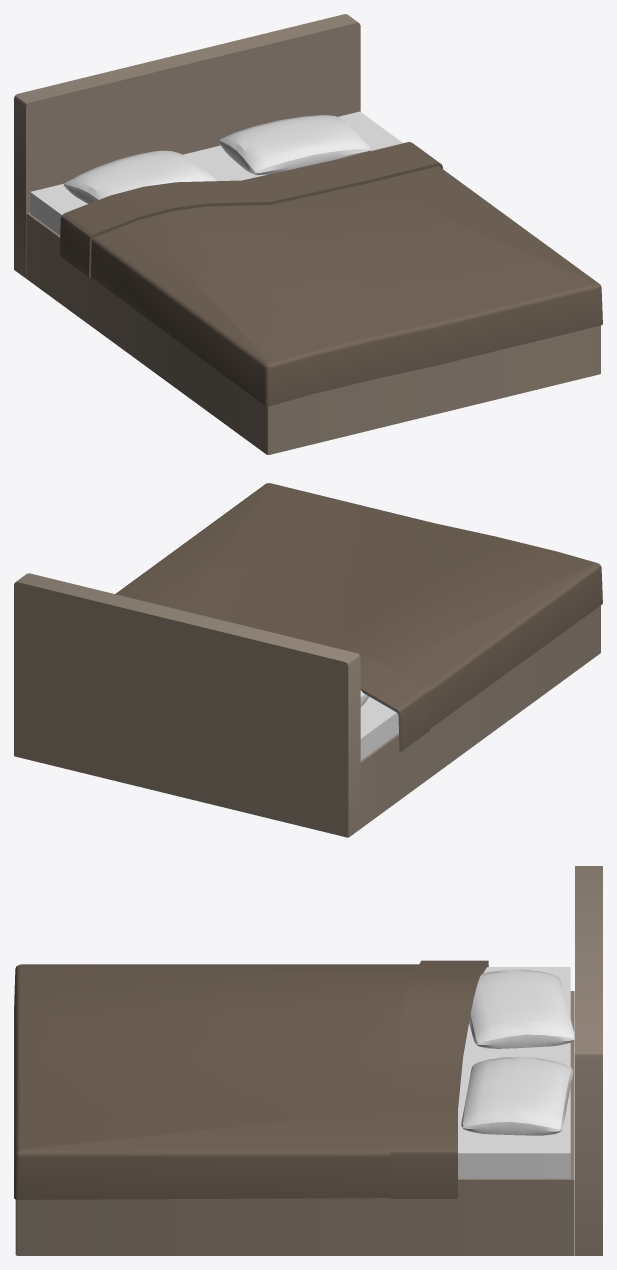
Rendered from Bed1_C3.fbx.
The picture shows the model from 3 angles, top to bottom: view 1: azimuth 30°, elevation 25°; view 2: azimuth 150°, elevation 25°; view 3: azimuth 270°, elevation 25°; orthographic projection. The views are drawn at different scales.
Parts seen in each view (by area): view 1: Bed1_C3; view 2: Bed1_C3; view 3: Bed1_C3.
Part boxes in pixels (x1,y1,x2,y2): Bed1_C3: (14,14,602,454); Bed1_C3: (14,483,602,837); Bed1_C3: (14,866,602,1255).
Bounding box in the file's own units: 163 × 80 × 211.
